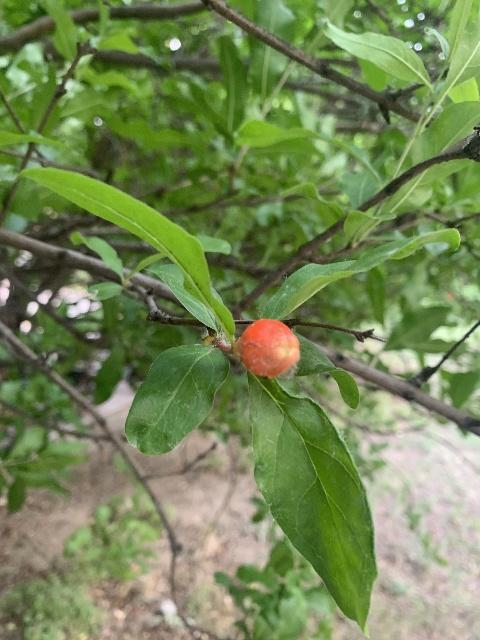bud: (235, 318, 299, 379)
